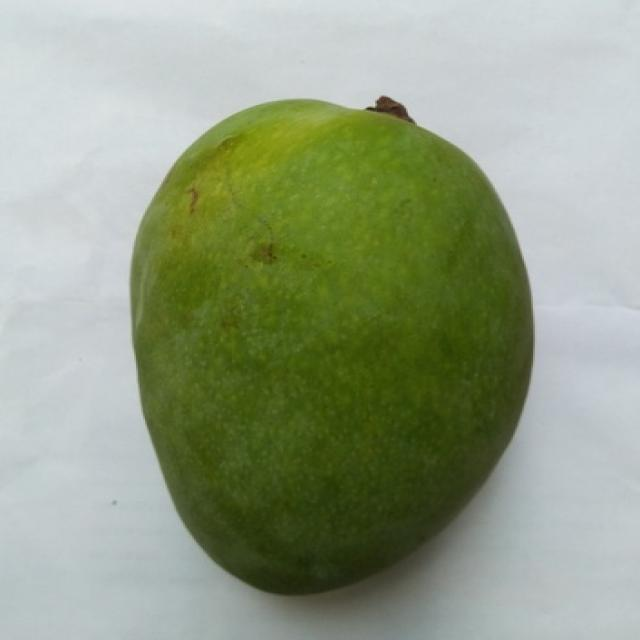Mango: (132, 100, 531, 593)
